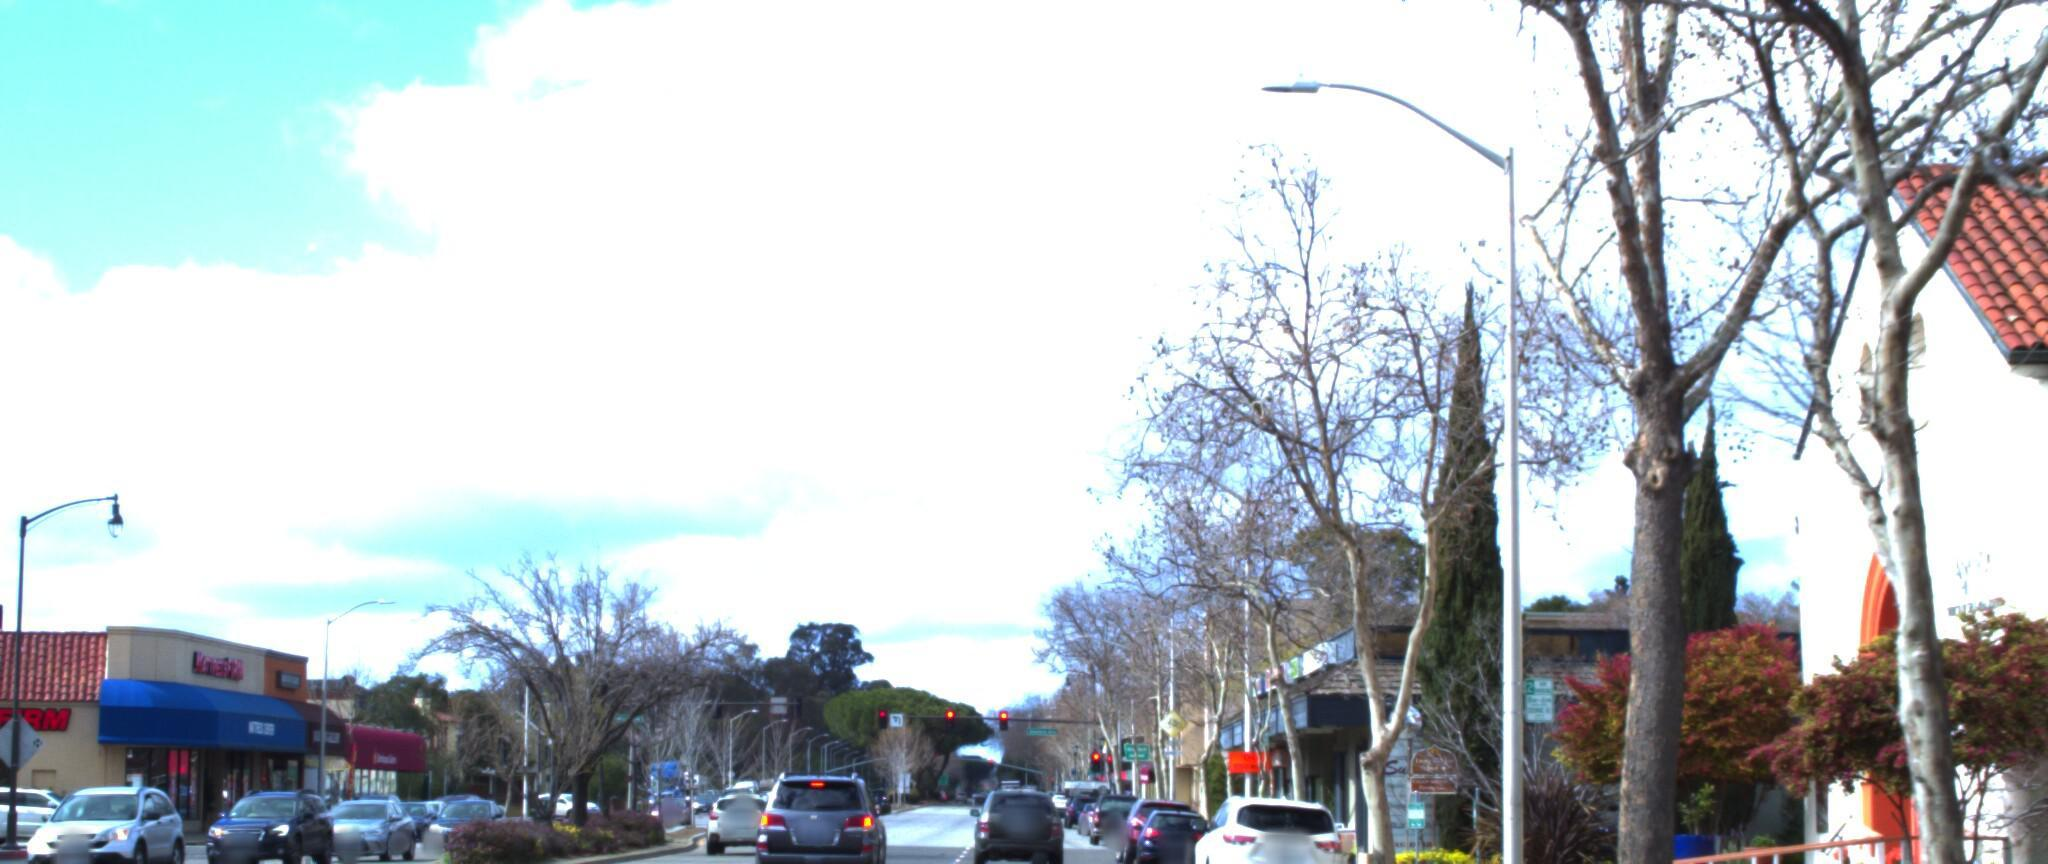car: (29, 741, 202, 860), (755, 743, 892, 864), (1196, 770, 1370, 864), (205, 761, 383, 846), (965, 750, 1051, 844), (712, 757, 803, 837), (1139, 778, 1224, 850)
